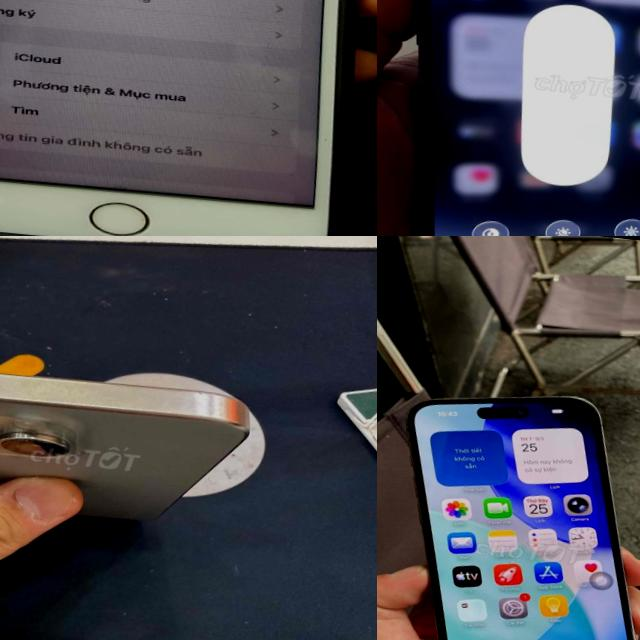gen_14: (378, 371, 640, 640), (377, 0, 640, 236)
gen_15: (0, 337, 251, 541)
gen_7_8: (0, 0, 377, 236)
